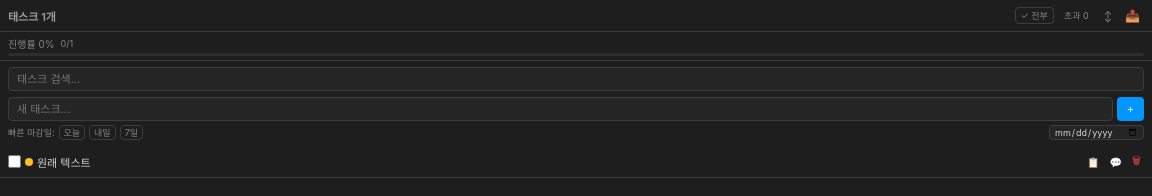
Test: TasksPanel › 편집 중 Enter 키로 저장된다
This screenshot has width=1152, height=196.
Double-click the text "원래 텍스트" at (64, 162), box [37,156,91,170]
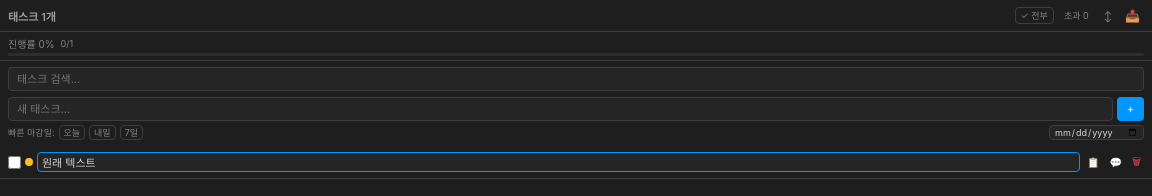
Replace the text in the field showing "원래 텍스트" with "수정된 텍스트" at (558, 162), box [37,152,1080,172]
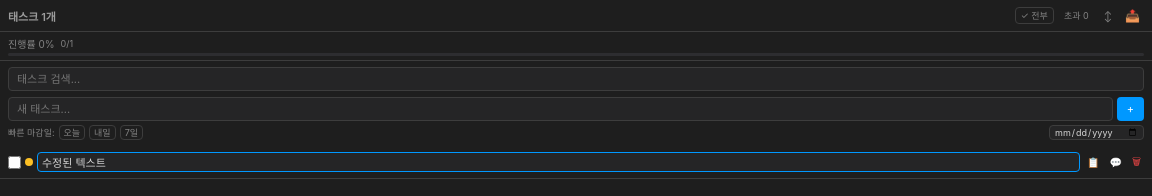
Press Enter in the field showing "원래 텍스트", box [37,152,1080,172]
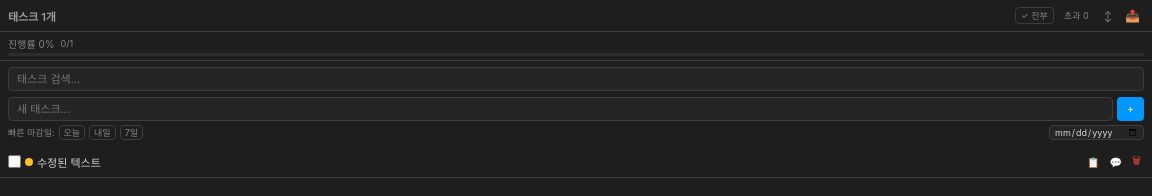
Result: the text "수정된 텍스트" is shown at [37,156,101,170]
